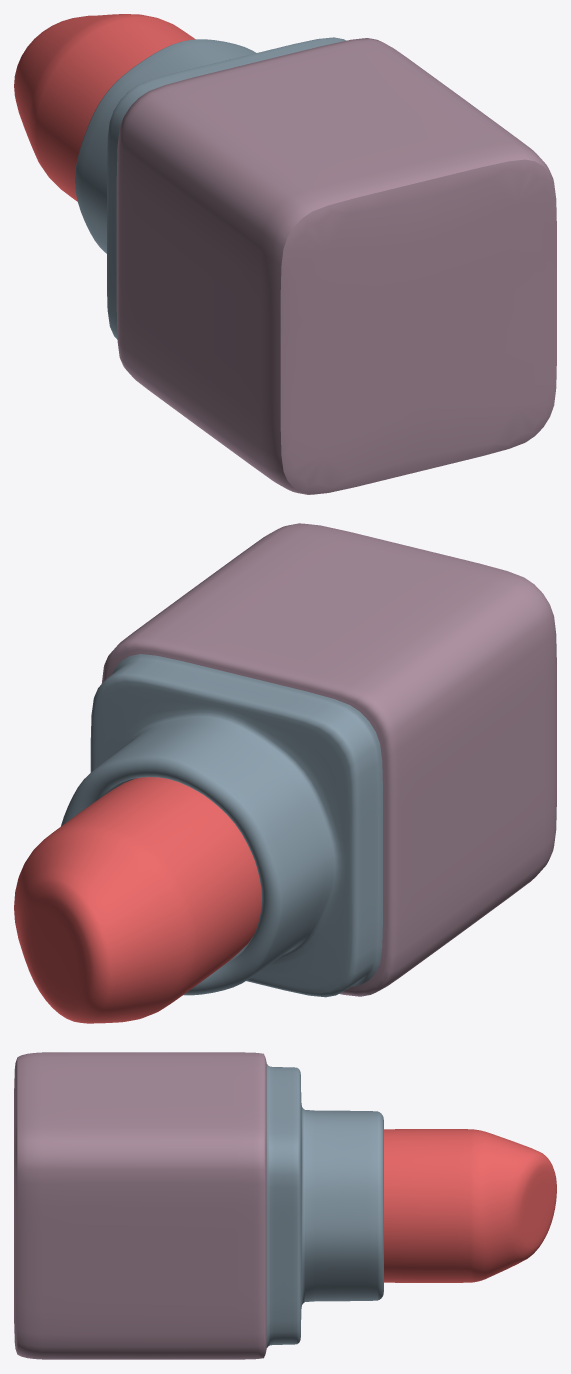
3 views of the same model, one above another, from view 1: azimuth 30°, elevation 25°; view 2: azimuth 150°, elevation 25°; view 3: azimuth 270°, elevation 25° (orthographic). The views are drawn at different scales.
Parts seen in each view (by area): view 1: kouhong; view 2: kouhong; view 3: kouhong.
Boxes of the visible parts, x1,y1,x2,y2 form: kouhong: (14,14,556,494); kouhong: (14,523,556,1023); kouhong: (14,1052,556,1359).
Bounding box in the file's own units: 7.3 × 7.3 × 15.73.
